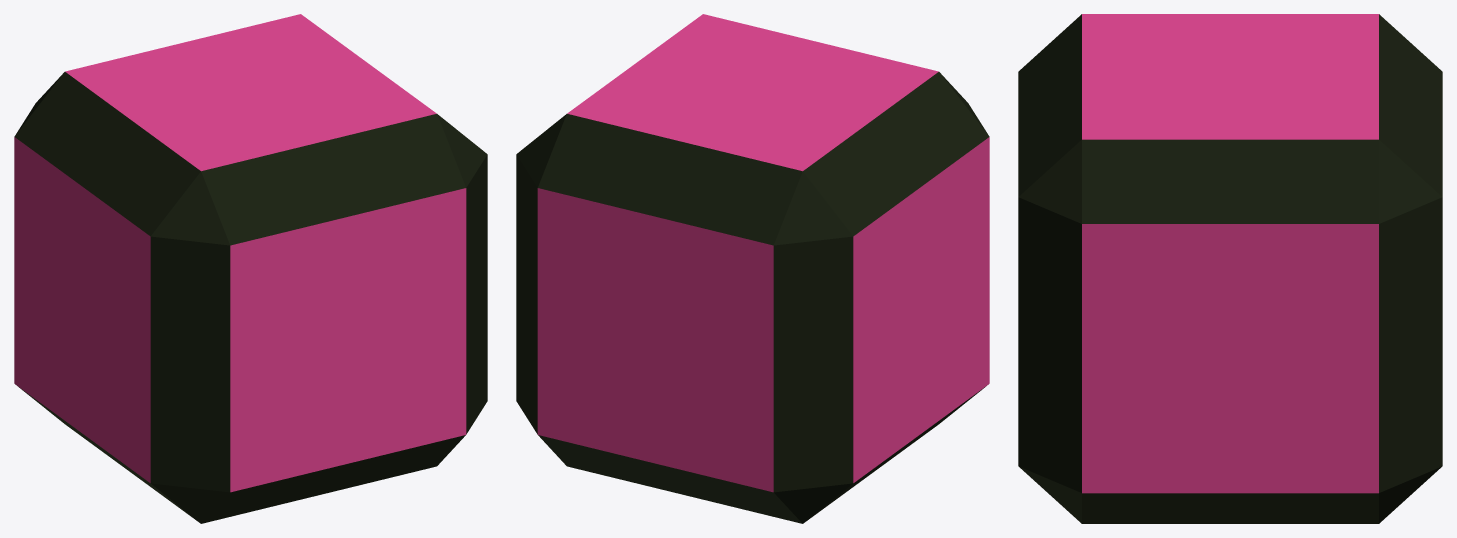
The model's file is CubeBevel03.fbx.
The picture shows the model from 3 angles, left to right: view 1: azimuth 30°, elevation 25°; view 2: azimuth 150°, elevation 25°; view 3: azimuth 270°, elevation 25°; orthographic projection. The views are drawn at different scales.
Parts seen in each view (by area): view 1: Cube; view 2: Cube; view 3: Cube.
Boxes of the visible parts, x1=… form: Cube: x1=14, y1=14, x2=487, y2=523; Cube: x1=516, y1=14, x2=989, y2=523; Cube: x1=1018, y1=14, x2=1442, y2=523.
Size of the model in its own units: 1 by 1 by 1.
